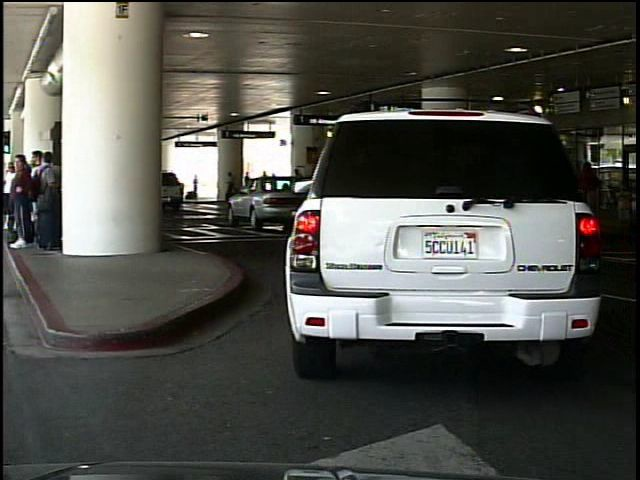person: (226, 170, 238, 200), (193, 175, 200, 202)
